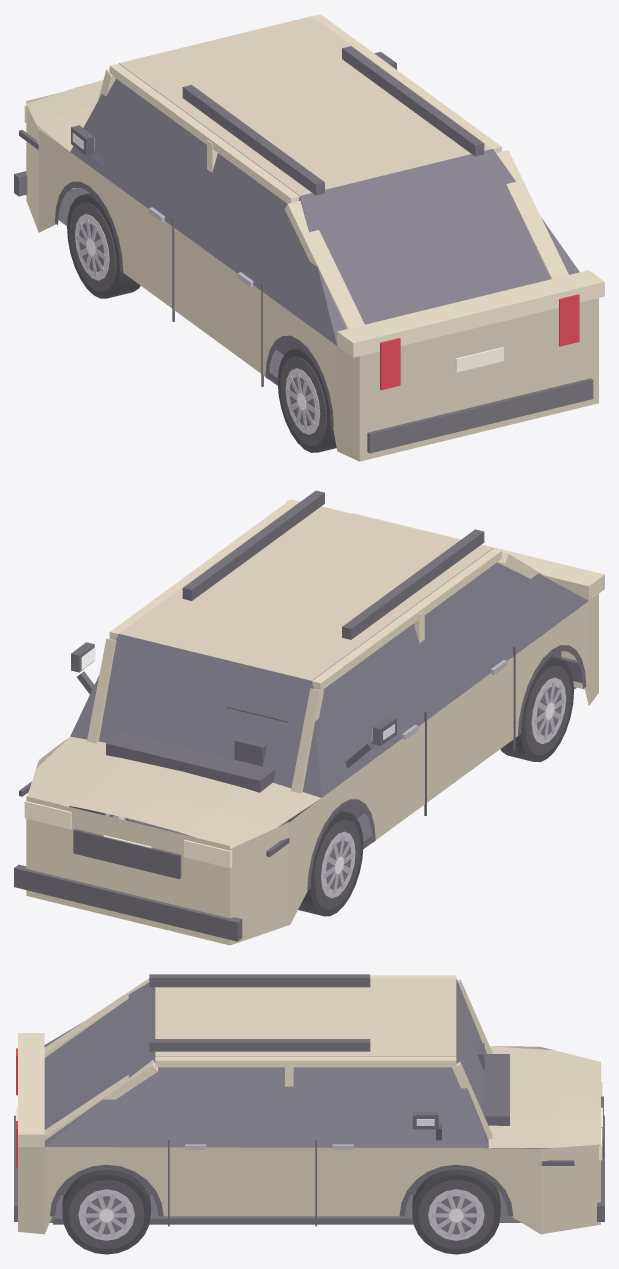
Rendered from cuv.glb.
The picture shows the model from 3 angles, top to bottom: view 1: azimuth 30°, elevation 25°; view 2: azimuth 150°, elevation 25°; view 3: azimuth 270°, elevation 25°; orthographic projection. The views are drawn at different scales.
Parts seen in each view (by area): view 1: Body, StaticWindowFaces, ExteriorDetails, Cabin, RearWindow, WheelFL, WheelRL, Hood; view 2: Body, StaticWindowFaces, Hood, ExteriorDetails, ExteriorWindowFaces, Cabin, WheelRL, WheelFL, Dashboard, Windshield, InstrumentCluster; view 3: Body, ExteriorWindowFaces, StaticWindowFaces, Hood, ExteriorDetails, WheelFR, WheelRR, Cabin, Floor, RearWindow, Dashboard, Windshield.
Part boxes in pixels (x1,y1,x2,y2): Body: (26,16,598,461); StaticWindowFaces: (70,63,579,345); ExteriorDetails: (14,105,604,453); Cabin: (109,14,501,203); RearWindow: (284,150,568,328); WheelFL: (67,193,140,298); WheelRL: (277,347,336,452); Hood: (26,80,103,151); Body: (26,490,598,945); StaticWindowFaces: (70,548,588,797); Hood: (27,736,320,848); ExteriorDetails: (14,513,604,941); ExteriorWindowFaces: (70,634,320,797); Cabin: (109,499,501,690); WheelRL: (500,656,573,762); WheelFL: (298,810,363,916); Dashboard: (106,732,275,792); Windshield: (87,638,323,793); InstrumentCluster: (226,706,288,766); Body: (18,974,600,1234); ExteriorWindowFaces: (45,982,488,1148); StaticWindowFaces: (44,979,488,1147); Hood: (488,1046,600,1148); ExteriorDetails: (14,1033,604,1226); WheelFR: (412,1169,500,1254); WheelRR: (62,1169,150,1254); Cabin: (155,975,456,1086); Floor: (53,1195,413,1224); RearWindow: (44,978,157,1140); Dashboard: (483,1054,509,1125); Windshield: (452,979,492,1139).
Size of the model in its own units: 2.23 by 1.62 by 4.41.
